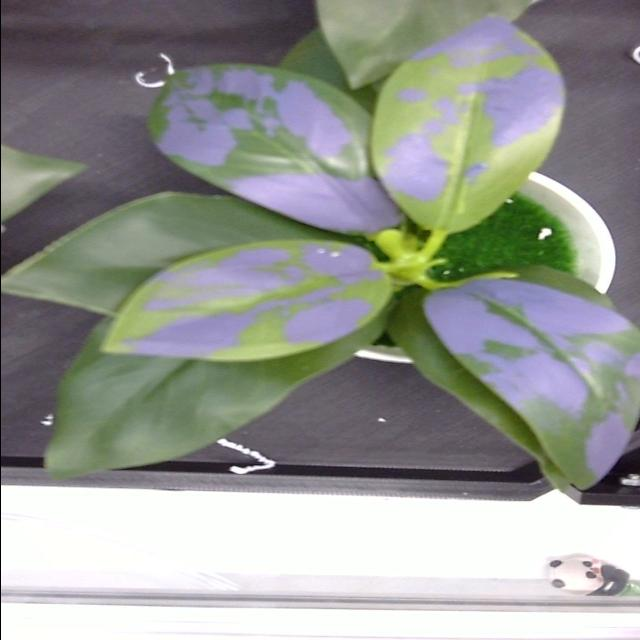Green: (44, 310, 388, 479), (1, 192, 354, 314), (316, 0, 534, 88), (1, 145, 85, 222)
Purple: (388, 266, 640, 492), (149, 64, 403, 235), (372, 17, 564, 233), (102, 239, 391, 361)
